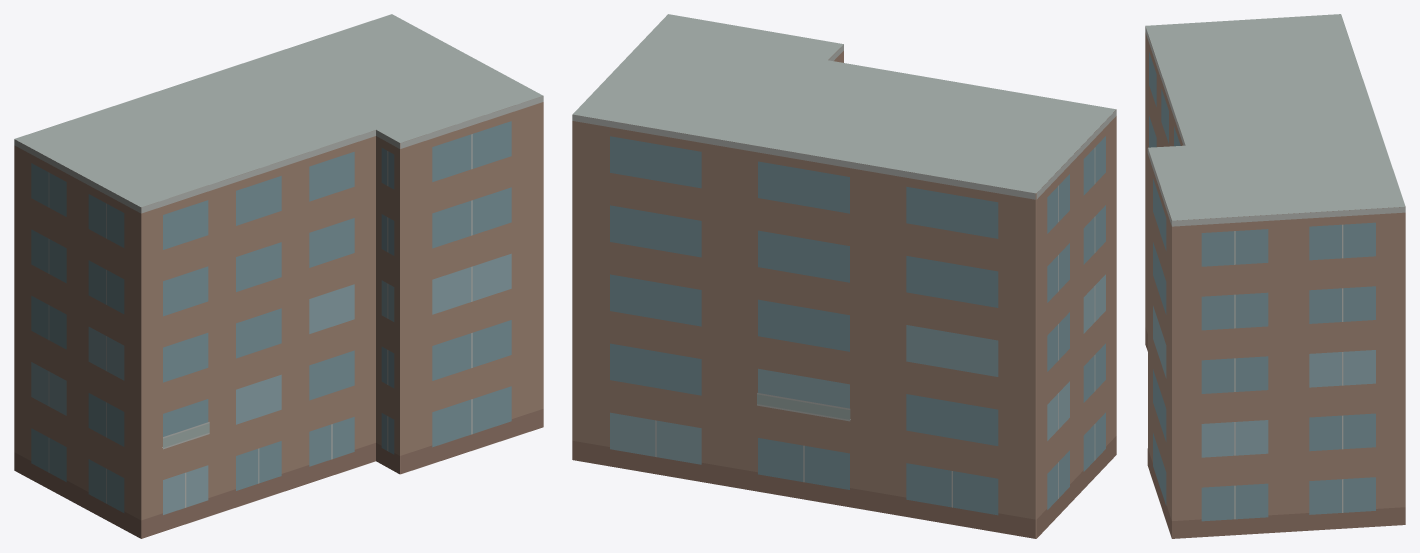
The model's file is survey-upis-32720430.glb.
3 renders of one model, left to right at view 1: azimuth 30°, elevation 25°; view 2: azimuth 150°, elevation 25°; view 3: azimuth 270°, elevation 25°, orthographic. The views are drawn at different scales.
Visible parts, largest first — view 1: survey-upis-32720430.tmp; view 2: survey-upis-32720430.tmp; view 3: survey-upis-32720430.tmp.
Boxes of the visible parts, box(x1,y1,x2,y2) form: survey-upis-32720430.tmp: box(14, 14, 543, 538); survey-upis-32720430.tmp: box(572, 14, 1116, 538); survey-upis-32720430.tmp: box(1145, 14, 1405, 538).
Bounding box in the file's own units: 18.4 × 13.2 × 9.8.
